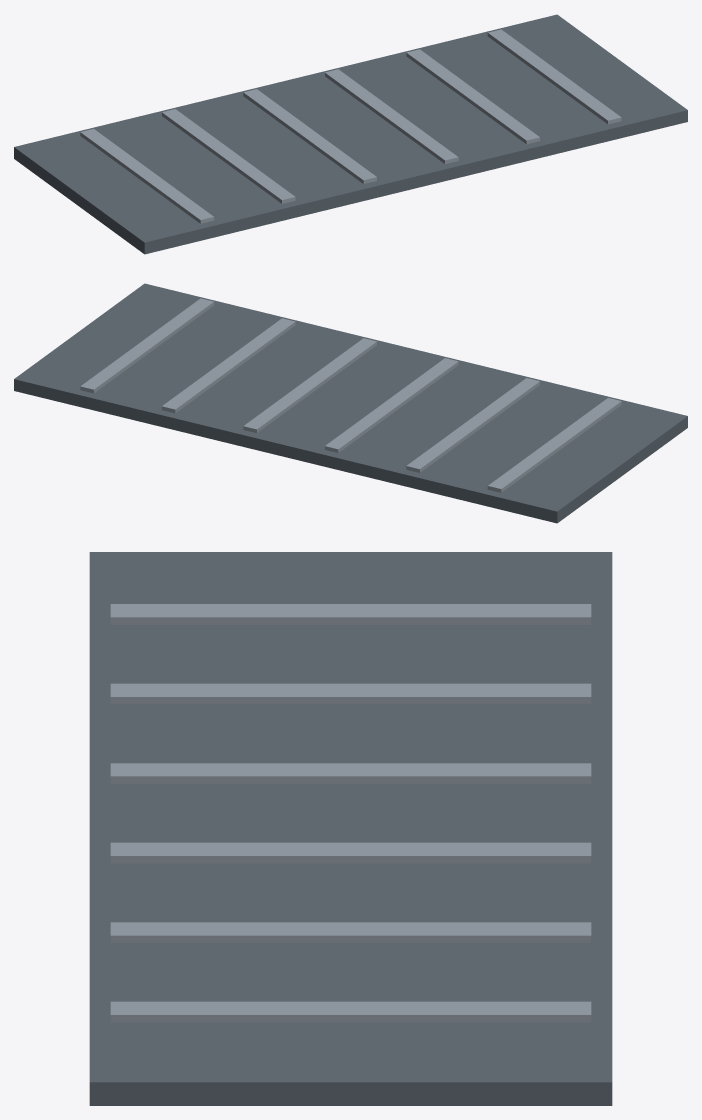
File: env_deck_plate.fbx
3 renders of one model, top to bottom at view 1: azimuth 30°, elevation 25°; view 2: azimuth 150°, elevation 25°; view 3: azimuth 270°, elevation 25°, orthographic. The views are drawn at different scales.
Parts seen in each view (by area): view 1: env_deck_plate; view 2: env_deck_plate; view 3: env_deck_plate.
Boxes of the visible parts, bbox=[...] form: env_deck_plate: bbox=[14, 14, 687, 254]; env_deck_plate: bbox=[14, 283, 687, 523]; env_deck_plate: bbox=[89, 552, 612, 1105].
Size of the model in its own units: 1200 by 33 by 500.
